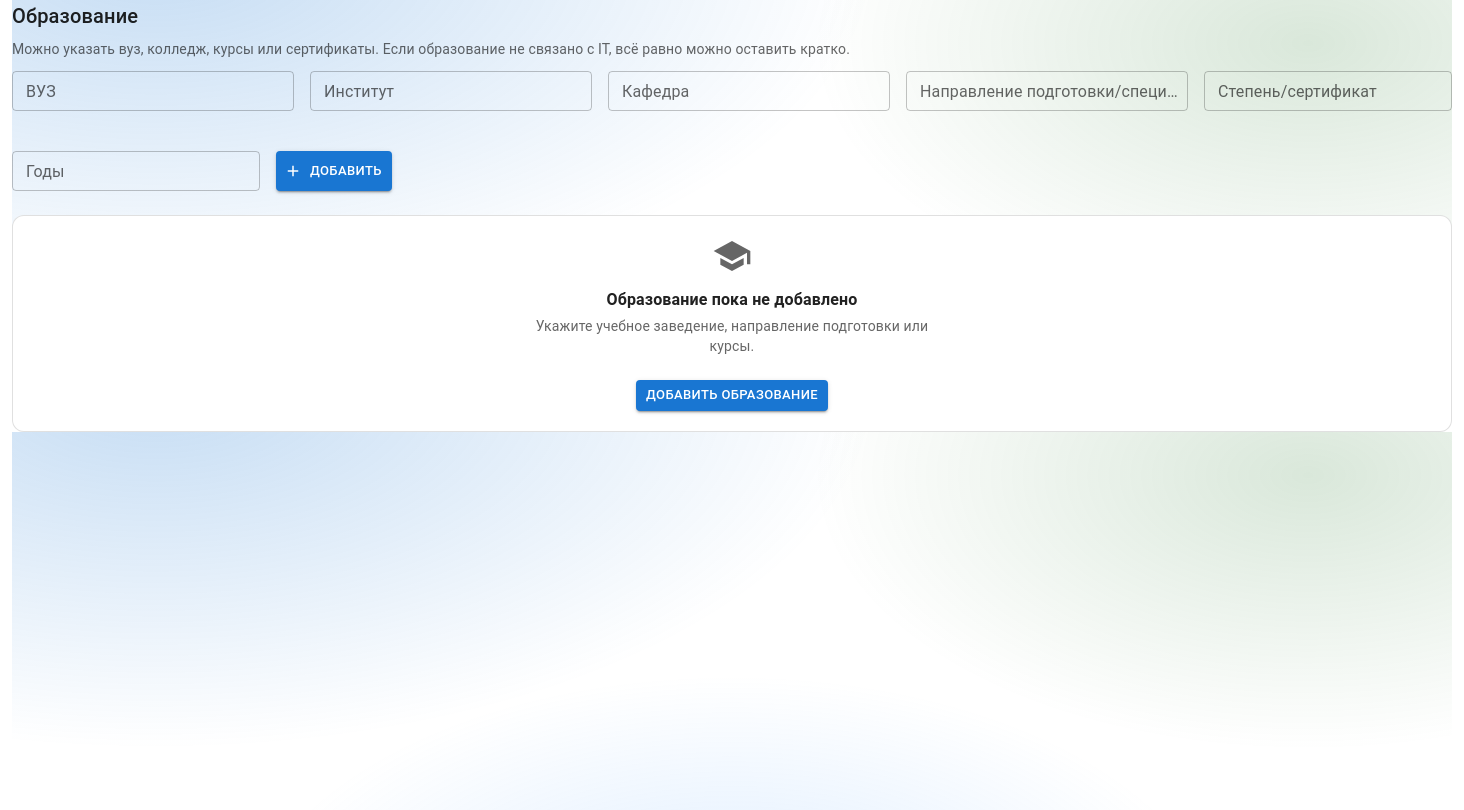
it: EducationBlock form validation › empty institution shows inline error
Click the button "Добавить" at (334, 171), box top-left (276, 151), bottom-right (392, 191)
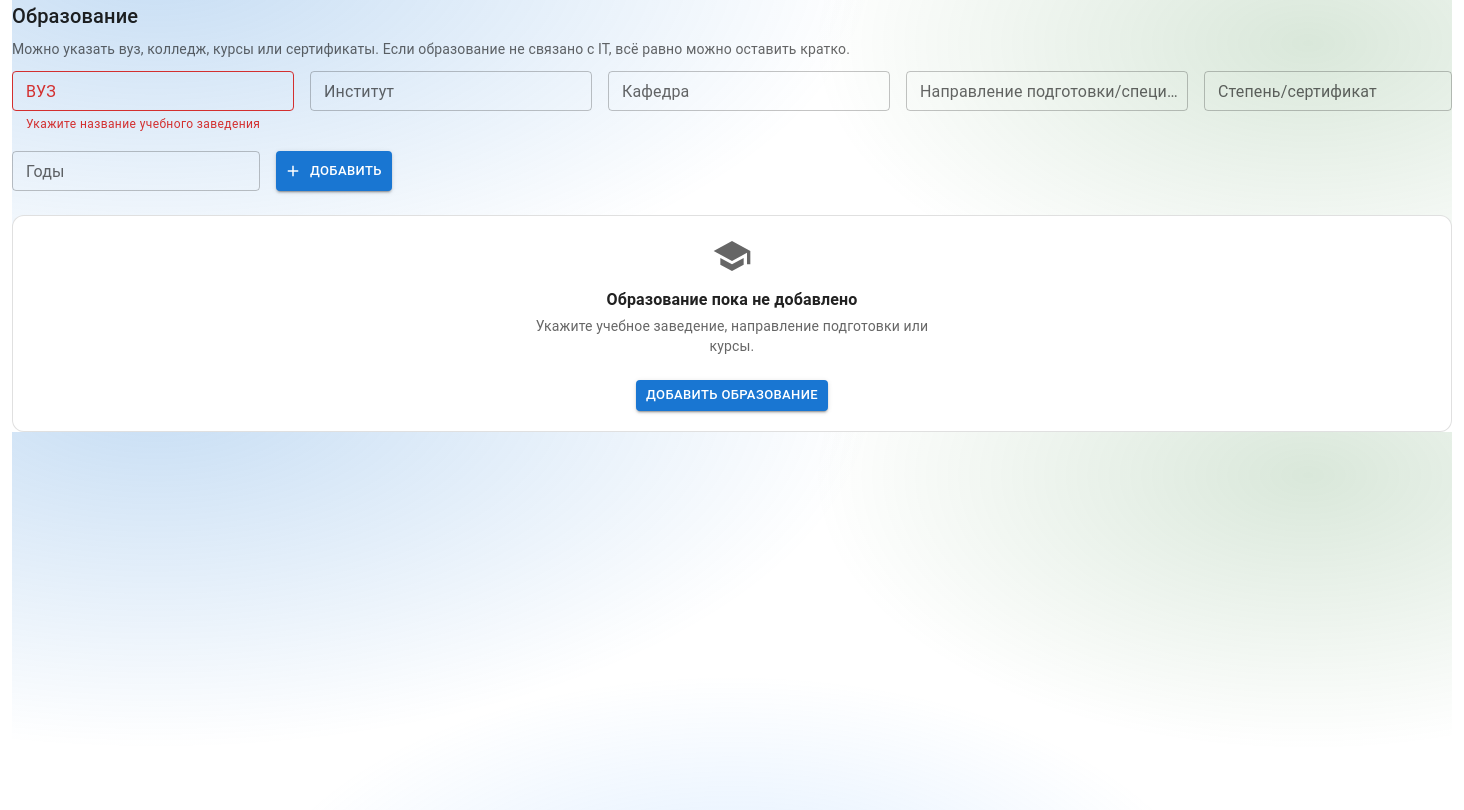
Result: the text "Укажите название учебного заведения" is shown at top-left (26, 115), bottom-right (280, 135)
